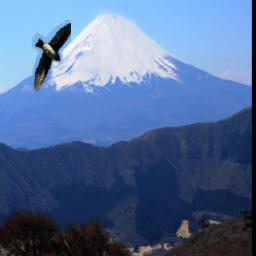Swallow: (32, 20, 71, 91)
